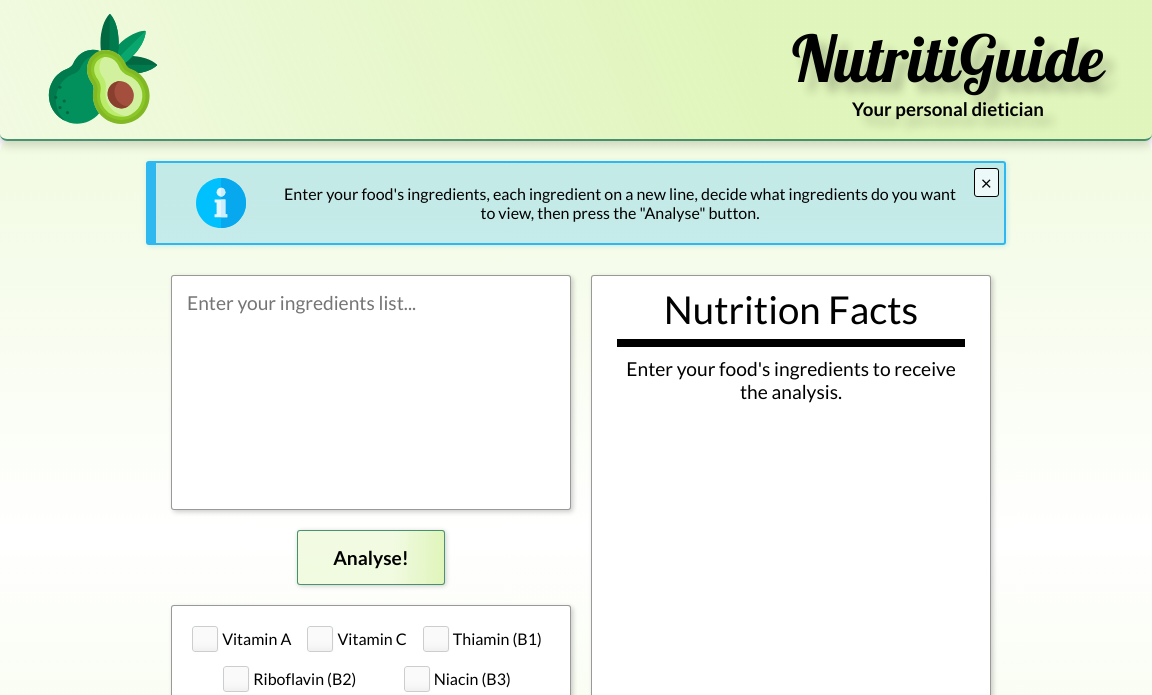
Test case: fetches and renders the data when the "Analyse" button is pressed
This screenshot has width=1152, height=695.
In the text box with placeholder "Enter your ingredients list...": (371, 392) [171, 275, 571, 510], type "200g butter"
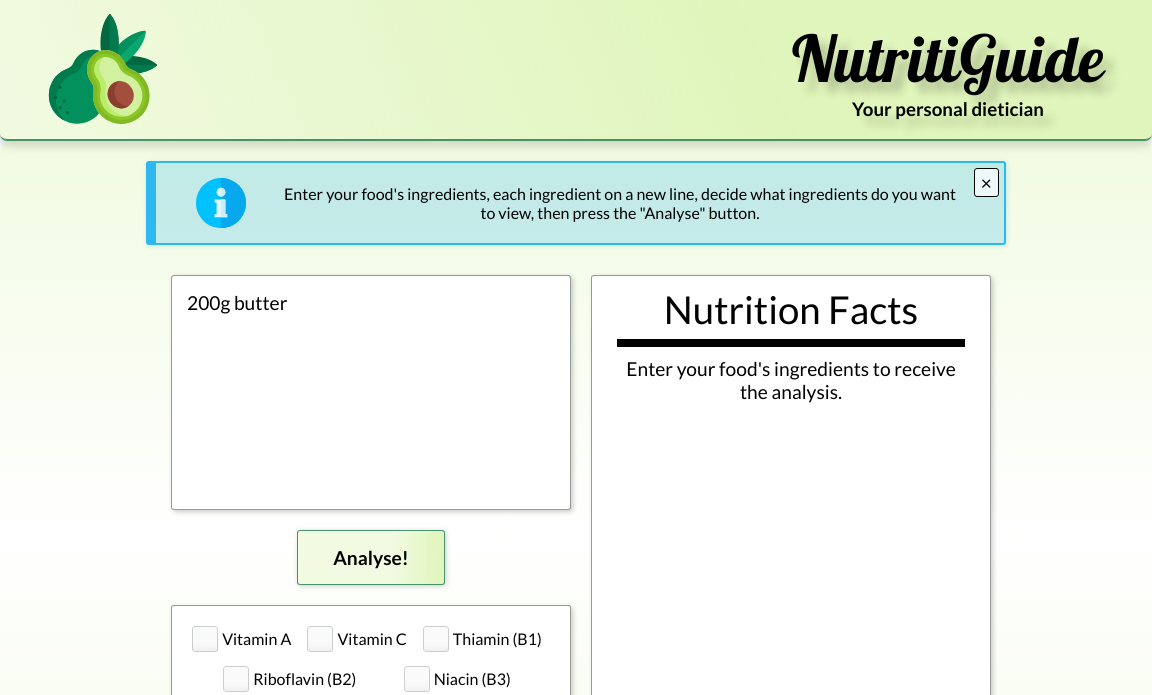
Click the button "Analyse!": (371, 557) [297, 530, 445, 585]
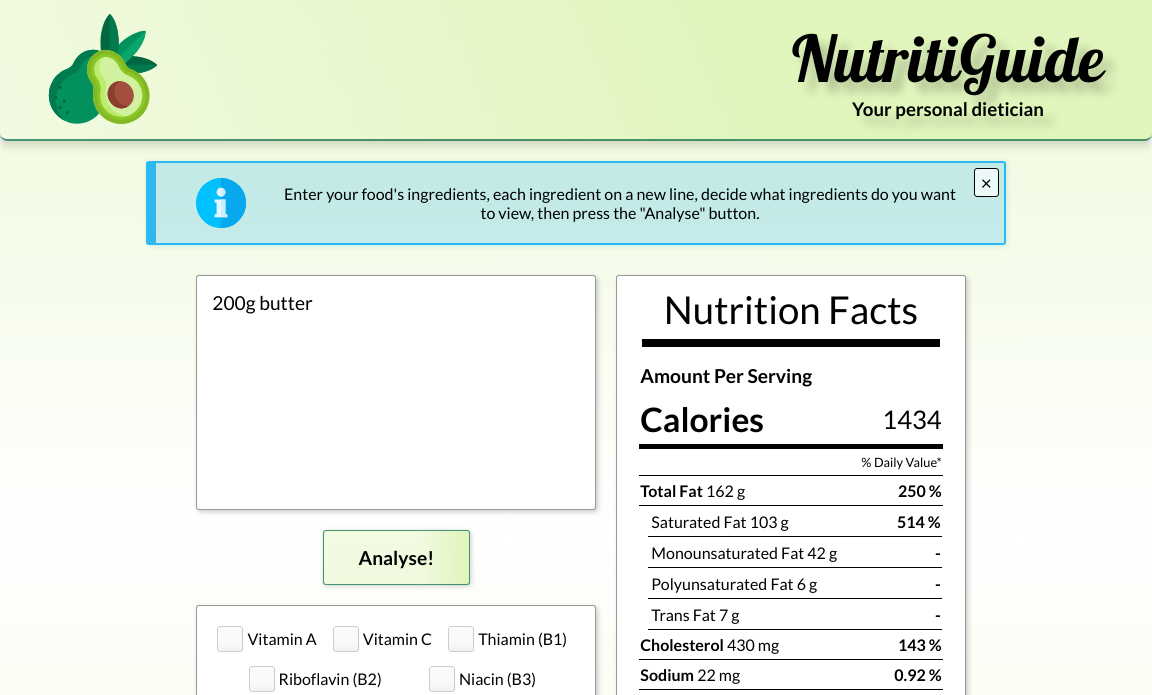
Check: the column heading "Calories" is shown, box [639, 398, 765, 440]
